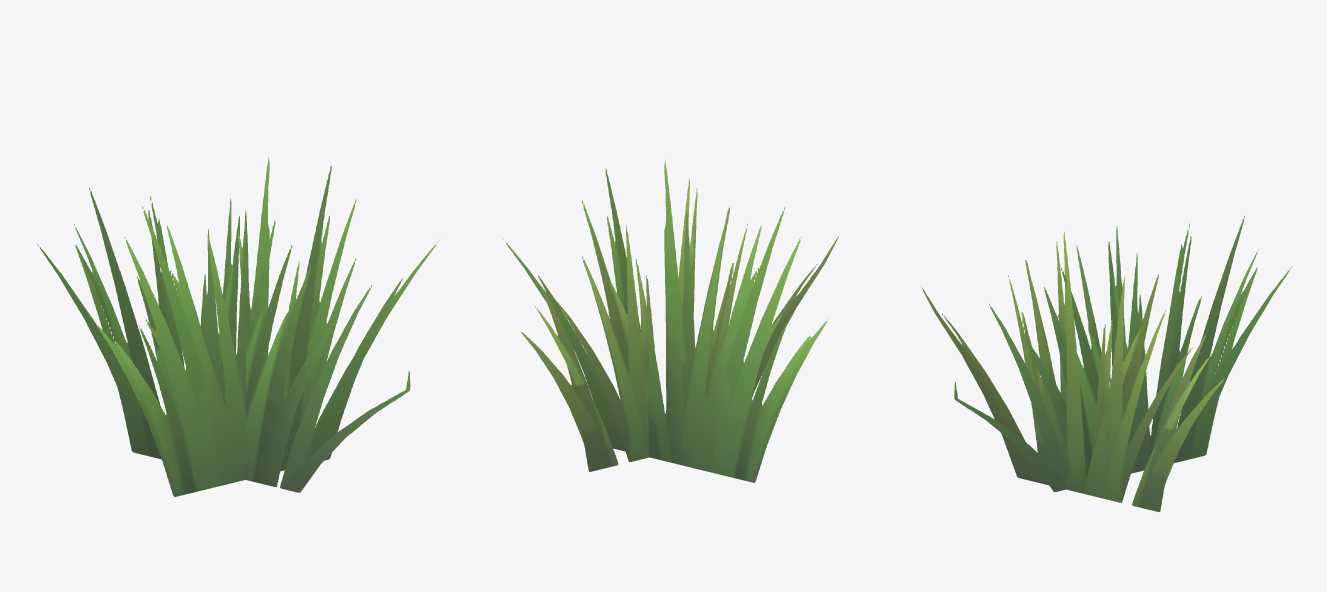
The model's file is TR_GrassClump.fbx.
3 renders of one model, left to right at view 1: azimuth 30°, elevation 25°; view 2: azimuth 150°, elevation 25°; view 3: azimuth 270°, elevation 25°, orthographic. The views are drawn at different scales.
Parts seen in each view (by area): view 1: TR_GrassClump; view 2: TR_GrassClump; view 3: TR_GrassClump.
Part boxes in pixels (x1,y1,x2,y2): TR_GrassClump: (36, 156, 439, 496); TR_GrassClump: (503, 160, 838, 482); TR_GrassClump: (921, 216, 1292, 511).
Size of the model in its own units: 0.46 by 0.44 by 0.4224.
Materials: 1 (1 with a texture image).
